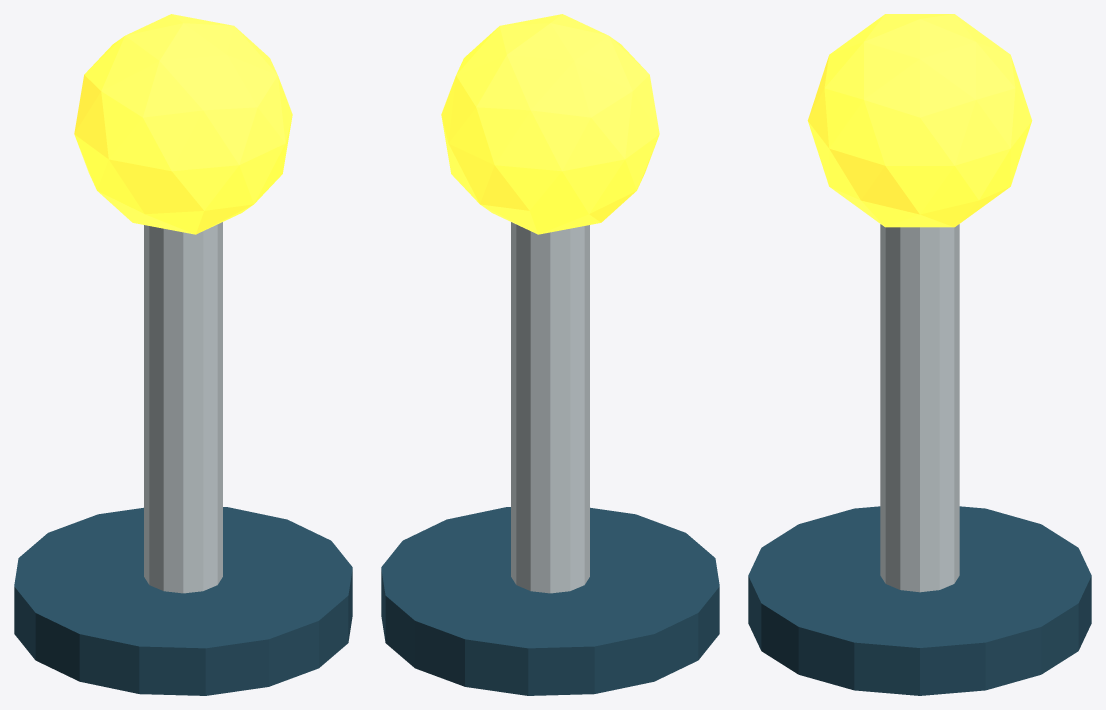
File: beacon.glb
3 renders of one model, left to right at view 1: azimuth 30°, elevation 25°; view 2: azimuth 150°, elevation 25°; view 3: azimuth 270°, elevation 25°, orthographic.
Visible parts, largest first — view 1: Foot, Signal, Post; view 2: Foot, Signal, Post; view 3: Foot, Signal, Post.
Part boxes in pixels (left/top/right/bottom): Foot: left=14, top=507, right=352, bottom=695; Signal: left=74, top=14, right=292, bottom=234; Post: left=144, top=222, right=222, bottom=593; Foot: left=381, top=507, right=719, bottom=695; Signal: left=441, top=14, right=659, bottom=234; Post: left=511, top=222, right=589, bottom=593; Foot: left=748, top=506, right=1091, bottom=695; Signal: left=807, top=14, right=1032, bottom=227; Post: left=880, top=224, right=959, bottom=592.
Bounding box in the file's own units: 1.04 × 2.02 × 1.04.
